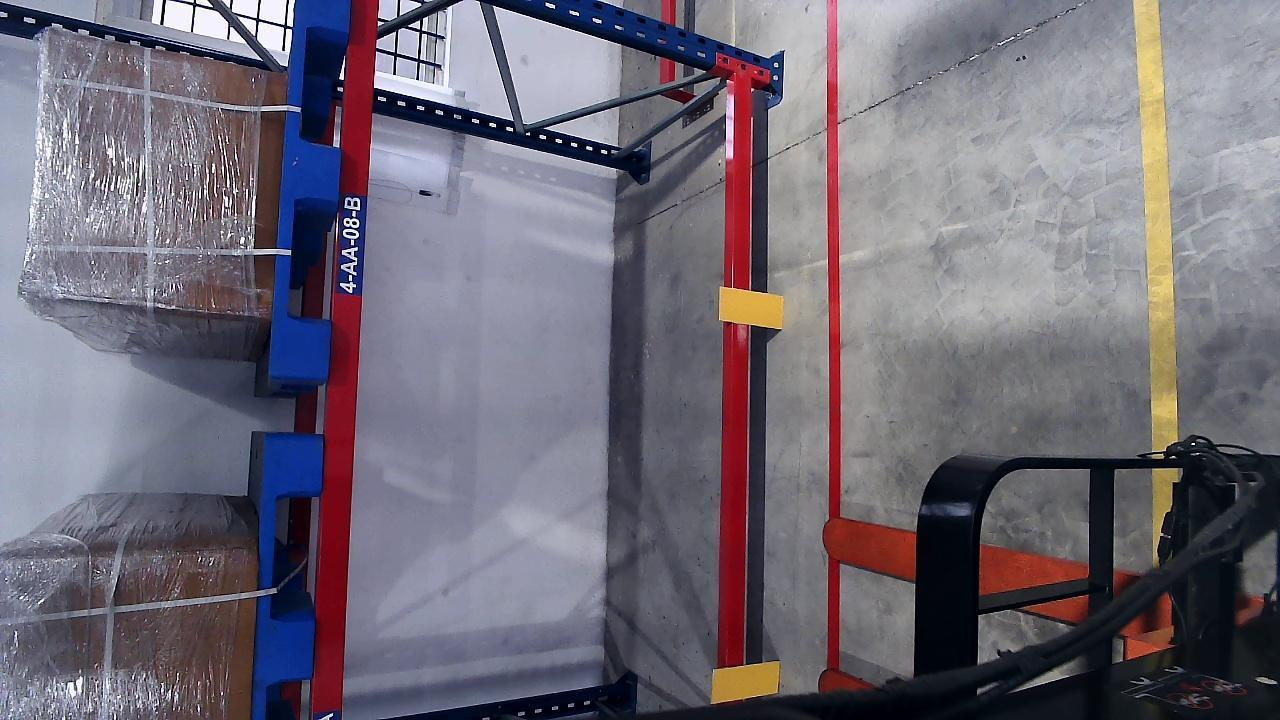yellow_line: (1133, 0, 1181, 452)
